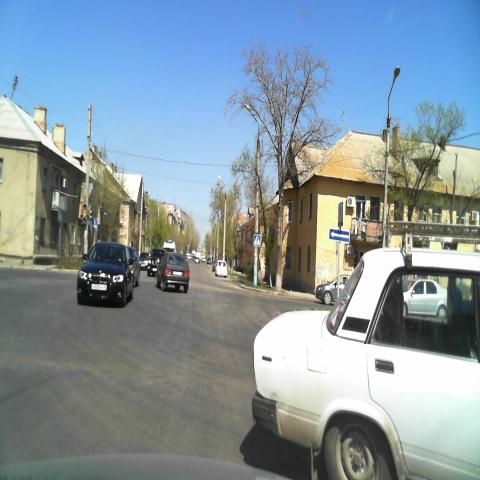5_7_2: (330, 229, 350, 242)
